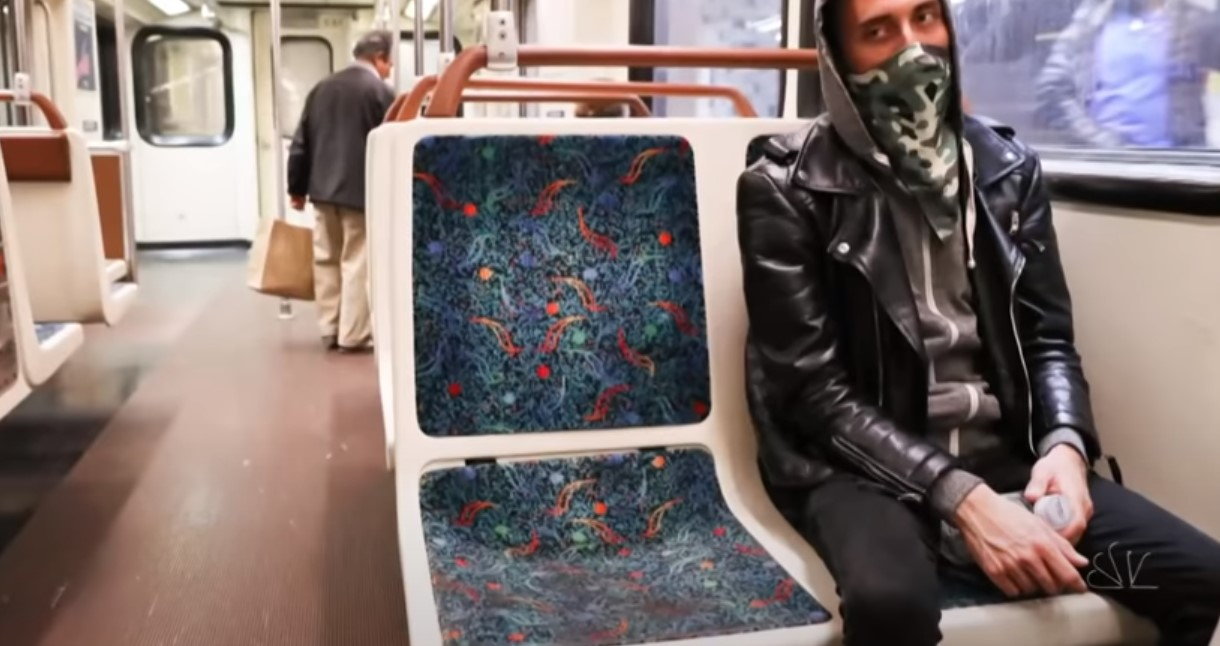face_with_mask: (836, 1, 949, 130)
